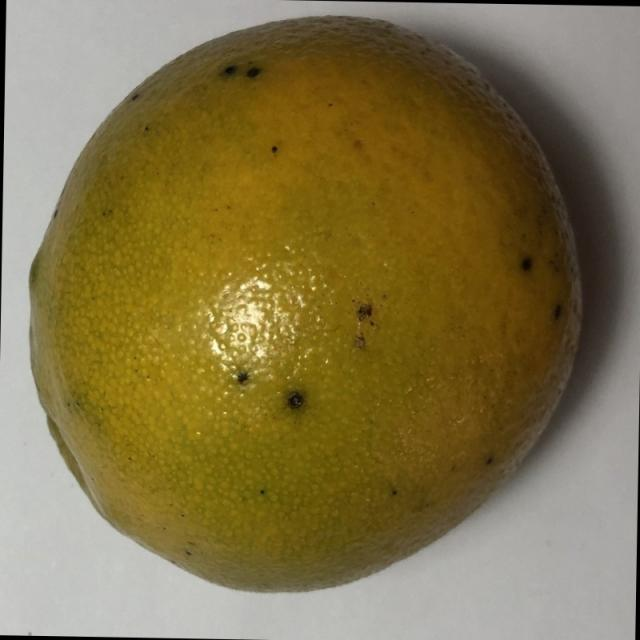blackspot: (26, 6, 600, 617)
